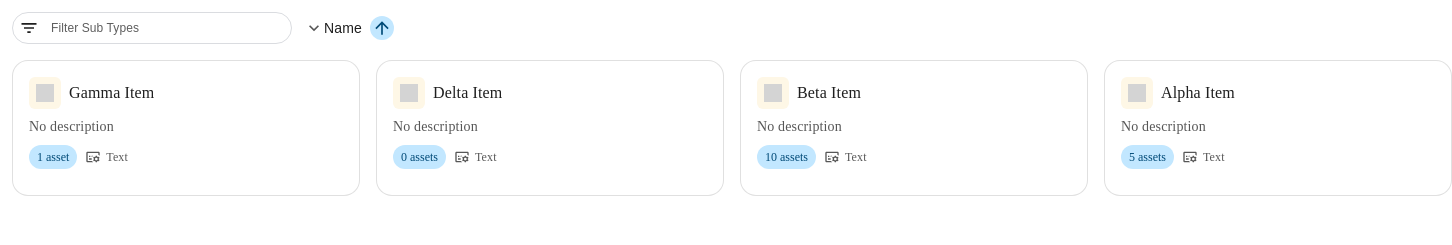
Test case: SubTypesTab › search functionality › should filter items with partial match using filter chips
Click to open dropdown and select Name filter field
Click the field with placeholder "Filter Sub Types" at (167, 28), box [47,15,287,41]
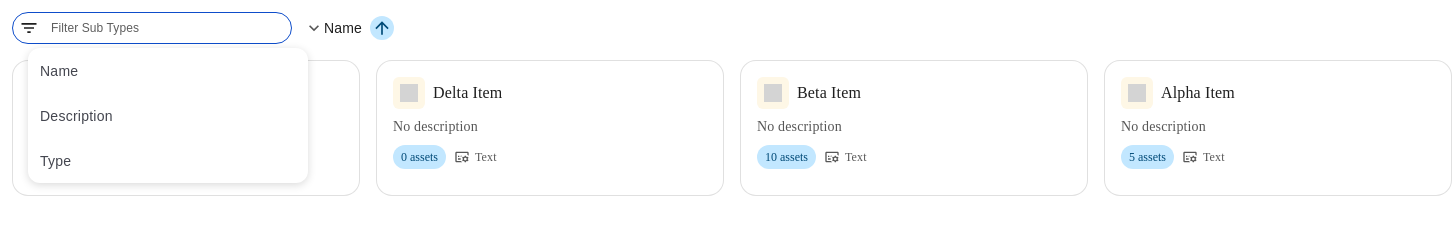
Click the menu item "Name" at (59, 70), box [40,62,78,78]
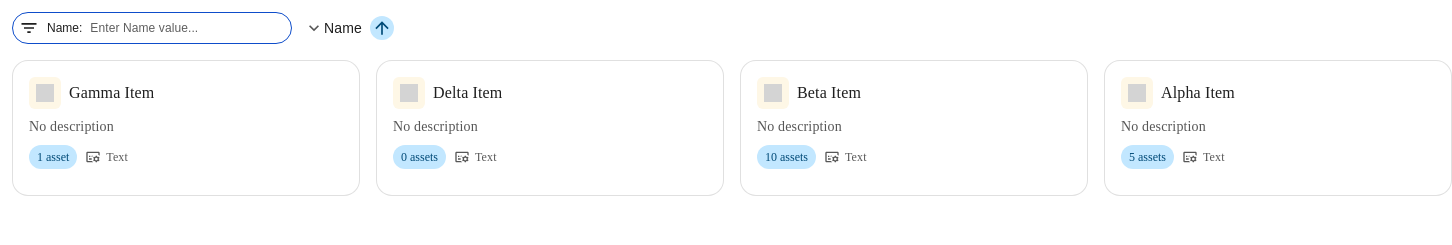
Type filter value and press Enter
Type "eta" into the field with placeholder "Filter Sub Types" at (187, 28), box [86,15,287,41]
Then press Enter
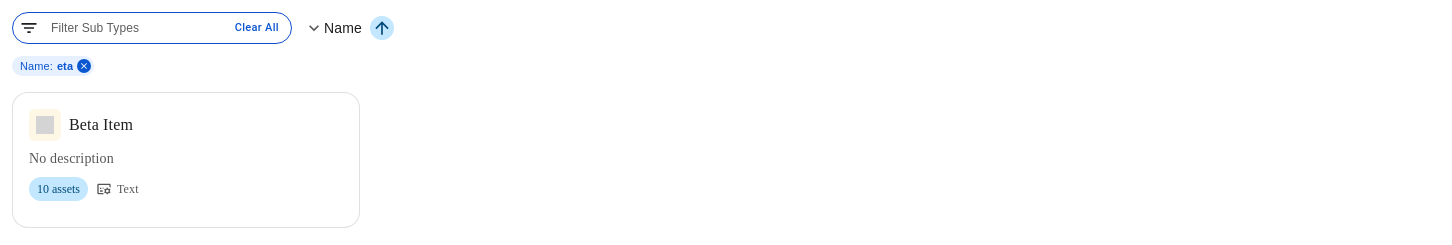
Result: the heading "Beta Item" is shown at [69,113,133,137]
Result: the heading "Delta Item" is gone
Result: the heading "Alpha Item" is gone
